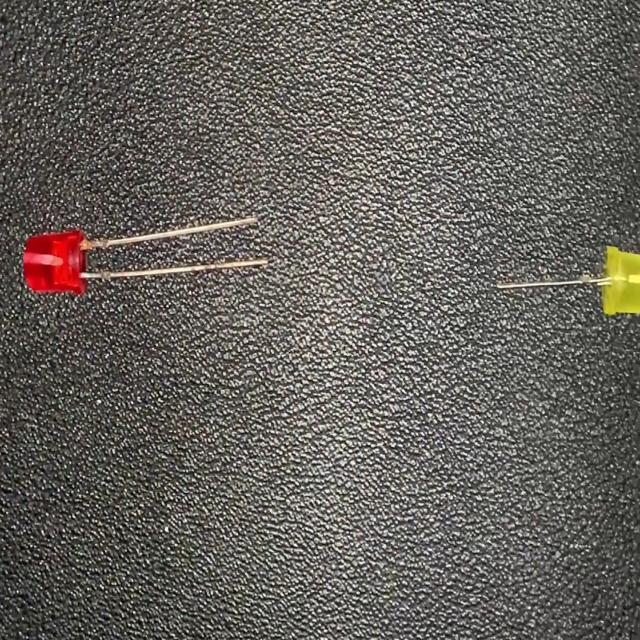LED: (18, 214, 272, 293)
missing-leg: (495, 237, 640, 319)
rust: (81, 231, 107, 261)
